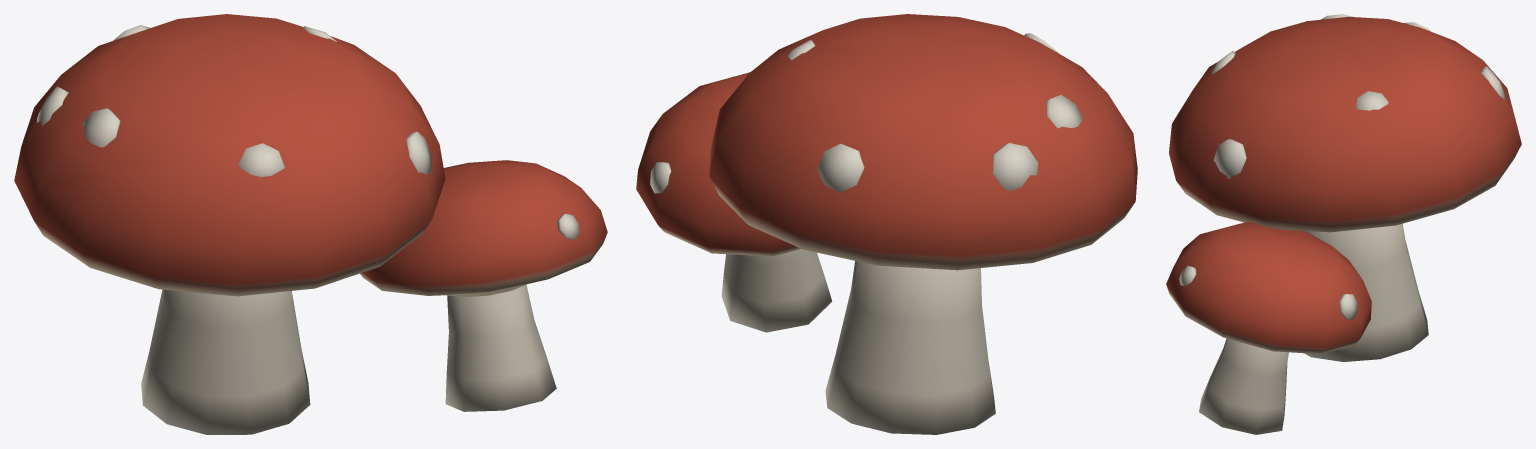
File: mushroom-round.glb
The picture shows the model from 3 angles, left to right: view 1: azimuth 30°, elevation 25°; view 2: azimuth 150°, elevation 25°; view 3: azimuth 270°, elevation 25°; orthographic projection. The views are drawn at different scales.
Parts seen in each view (by area): view 1: mushroom-round; view 2: mushroom-round; view 3: mushroom-round.
Boxes of the visible parts, x1=… form: mushroom-round: x1=14, y1=14, x2=607, y2=434; mushroom-round: x1=636, y1=14, x2=1137, y2=434; mushroom-round: x1=1166, y1=14, x2=1521, y2=434.
Bounding box in the file's own units: 0.295 × 0.2006 × 0.2202.
